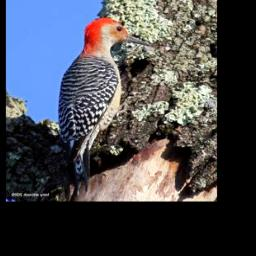Woodpecker: (56, 16, 150, 190)
